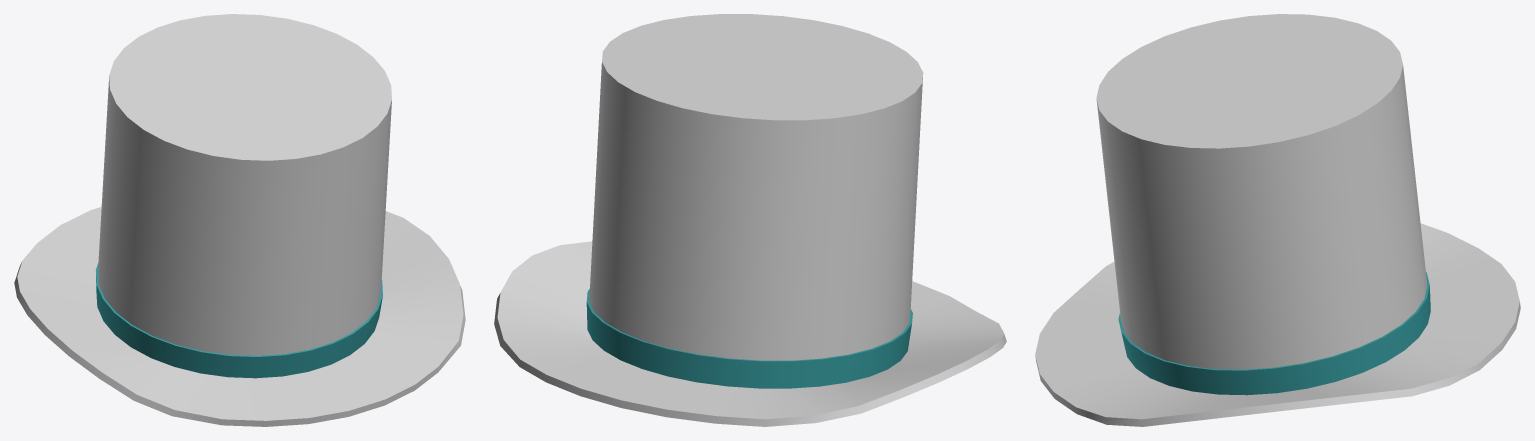
Rendered from tophat_basic_cyan_and_white.glb.
The picture shows the model from 3 angles, left to right: view 1: azimuth 30°, elevation 25°; view 2: azimuth 150°, elevation 25°; view 3: azimuth 270°, elevation 25°; orthographic projection. The views are drawn at different scales.
Visible parts, largest first — view 1: 0.131, 1.076; view 2: 0.131, 1.076; view 3: 0.131, 1.076.
Boxes of the visible parts, x1,y1,x2,y2 form: 0.131: (14,14,465,426); 1.076: (95,263,382,378); 0.131: (494,14,1006,426); 1.076: (586,288,912,388); 0.131: (1035,14,1520,426); 1.076: (1118,272,1430,395).
Bounding box in the file's own units: 0.6292 × 0.4242 × 0.6289.
